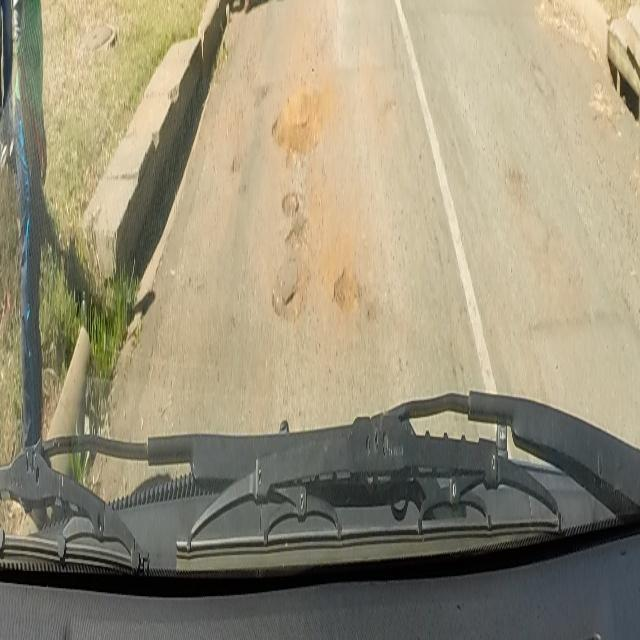pothole: (268, 185, 320, 330), (270, 82, 322, 152), (332, 263, 362, 319)
